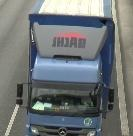truck: (27, 2, 113, 135)
